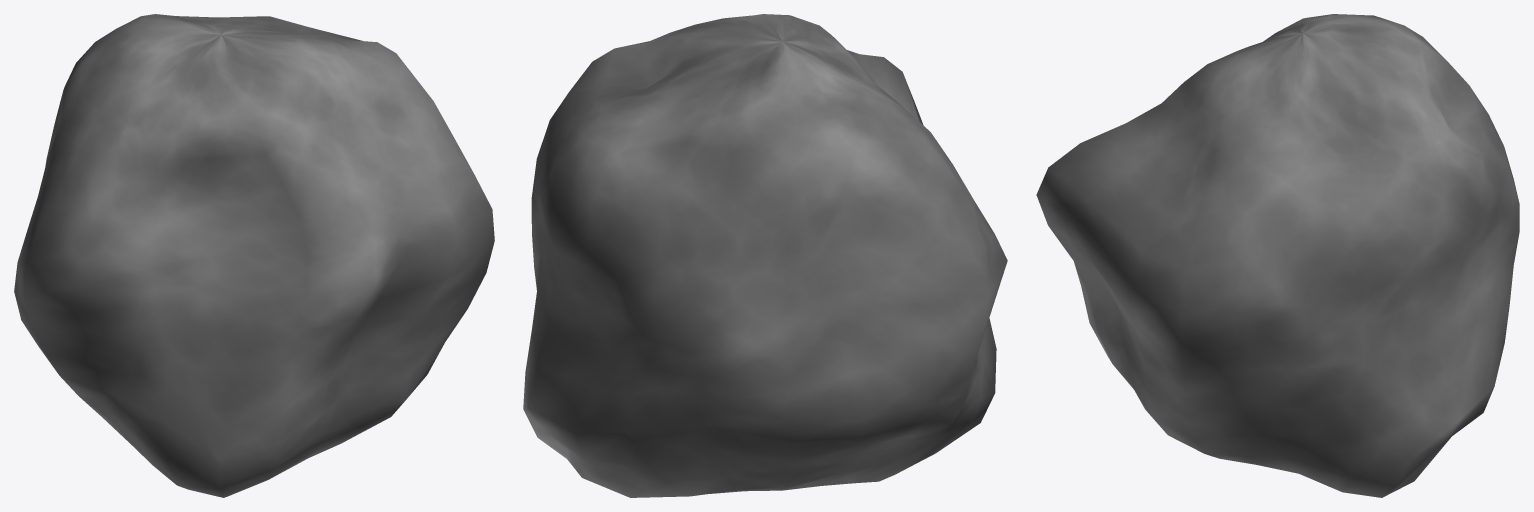
The model's file is greyAsteroid2.fbx.
3 views of the same model, side by side, from view 1: azimuth 30°, elevation 25°; view 2: azimuth 150°, elevation 25°; view 3: azimuth 270°, elevation 25° (orthographic). The views are drawn at different scales.
Parts seen in each view (by area): view 1: AsteroidGrey1; view 2: AsteroidGrey1; view 3: AsteroidGrey1.
Part boxes in pixels (box(x1,y1,x2,y2)): AsteroidGrey1: box(14, 14, 494, 497); AsteroidGrey1: box(523, 14, 1007, 497); AsteroidGrey1: box(1036, 14, 1519, 497).
Size of the model in its own units: 21.61 by 20.76 by 22.49.
